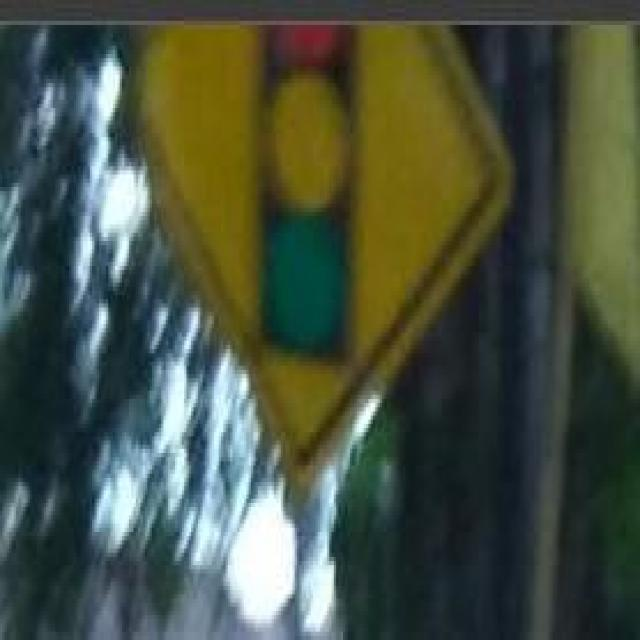traffic sign: (143, 21, 509, 458)
